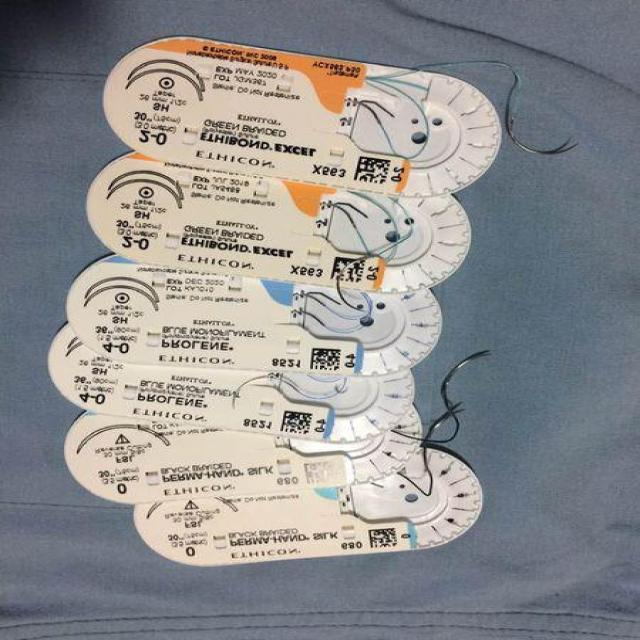Needle: (502, 103, 582, 158), (436, 349, 496, 422), (420, 406, 470, 475), (229, 374, 300, 412), (336, 256, 382, 314), (326, 204, 356, 230), (354, 101, 382, 126), (302, 310, 328, 330), (298, 292, 326, 308)
